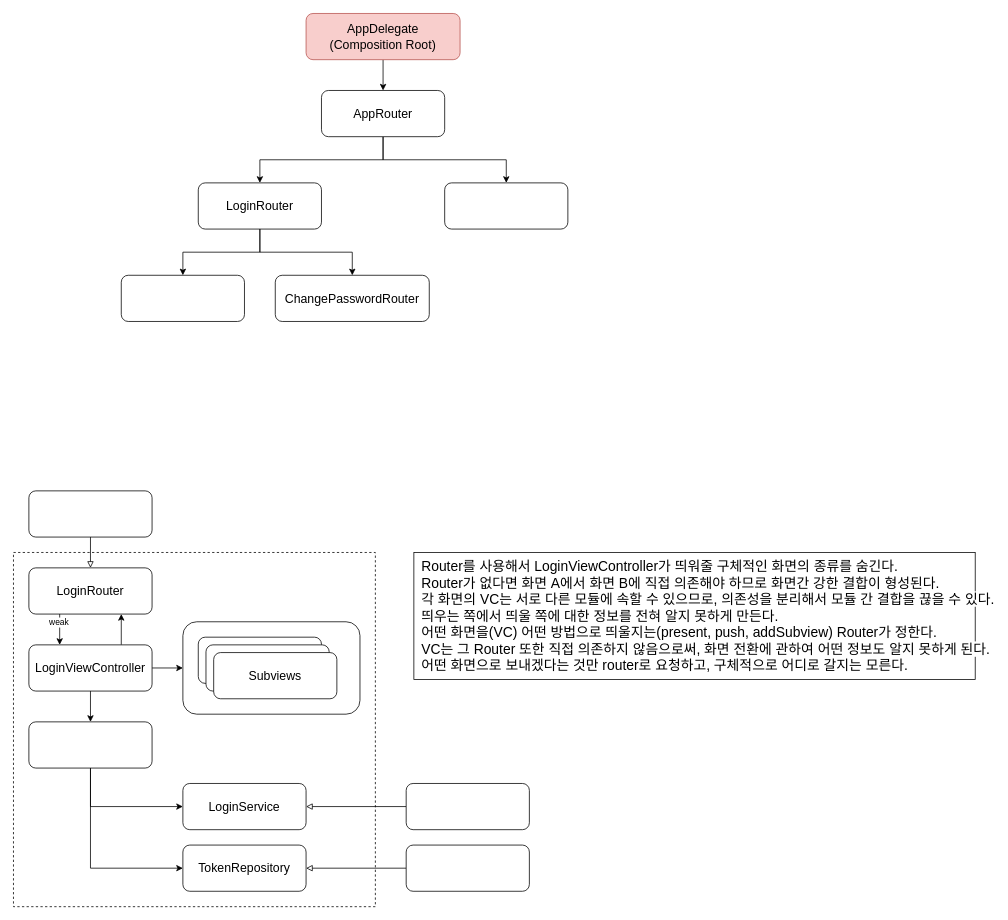
Some shapes in this 1008 by 920 pixel diagram are drawn without their labels. The shapes that lost their labels are listed below. From the top down, each one's centre as x and y in pixels, then its label:
At point (506, 205): "HomeRouter".
At point (182, 298): "SignUpRouter".
At point (90, 513): "LoginRouterImp".
At point (90, 744): "Dependency".
At point (467, 806): "LoginServiceImp".
At point (467, 867): "TokenRepositoryImp".
